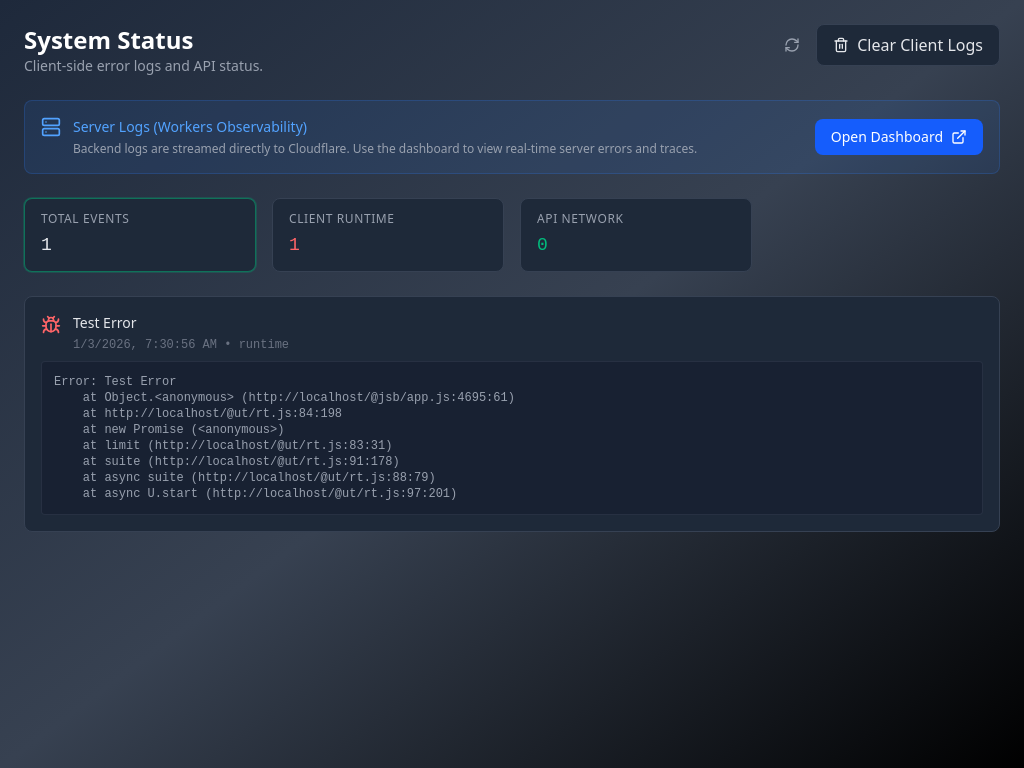
Test: SystemStatus page › clears logs
Expected: the text "Test Error" is shown, [73,313,136,332]
Step 1. Click the button "Clear Client Logs" → (908, 45), box [816,24,1000,66]
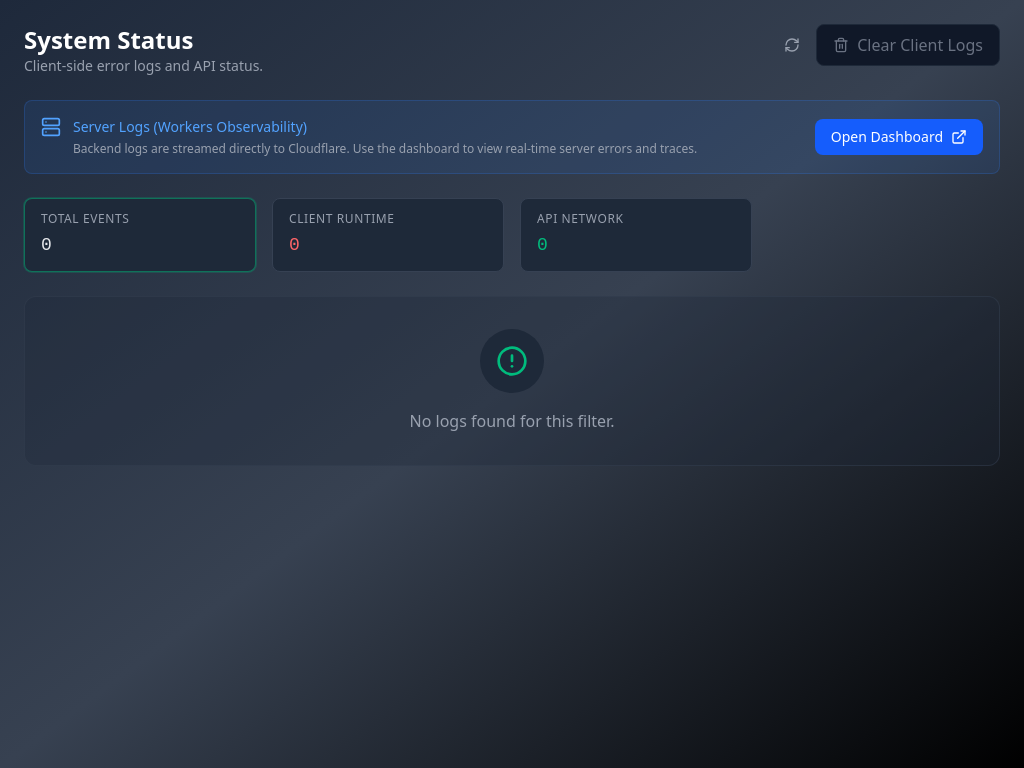
Expected: the text "Test Error" is gone
Expected: the text "No logs found for this filter." is shown, [410,409,614,433]
